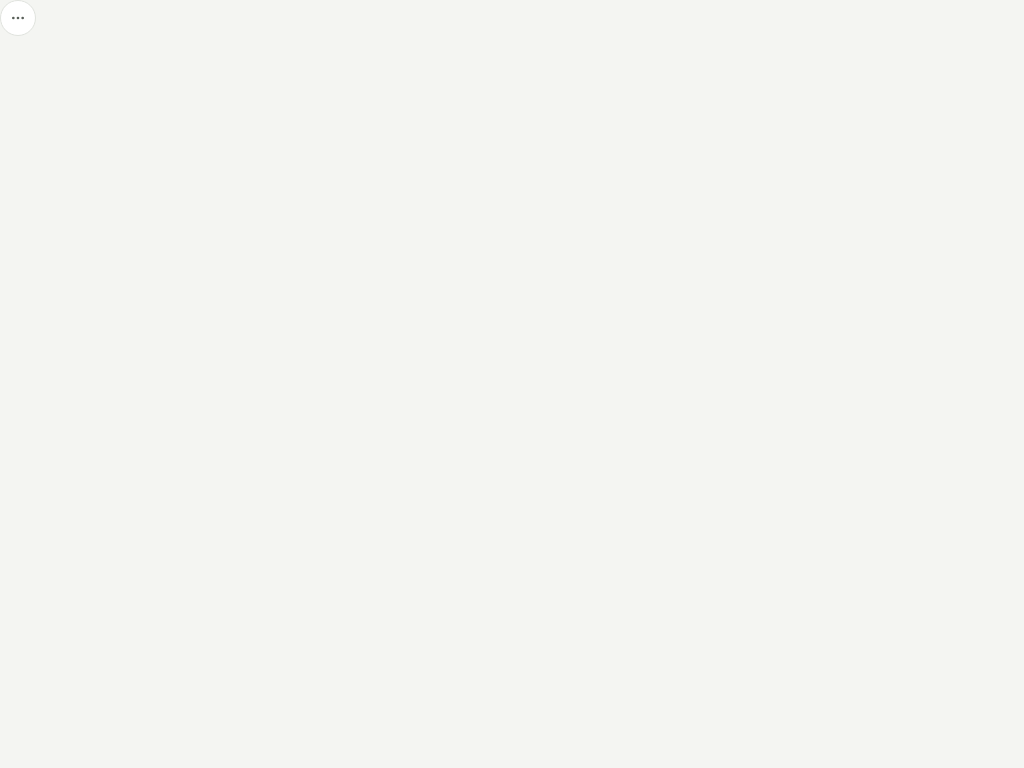
Test: duplicating an event › opens the upgrade dialog instead at the month's event limit, and copies nothing
The width and height of the screenshot is (1024, 768).
Press Enter in the button named "More for Hack Night 04", box [0,0,36,36]
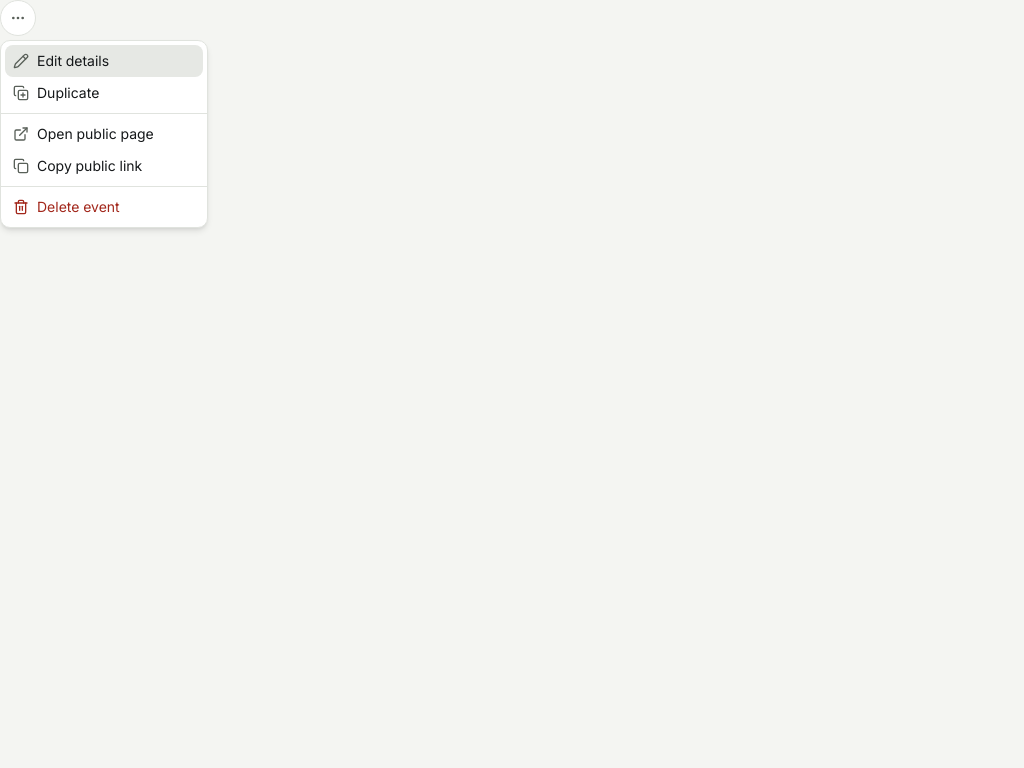
Click the menu item "Duplicate" at {"x": 56, "y": 92}, box [13,84,99,101]
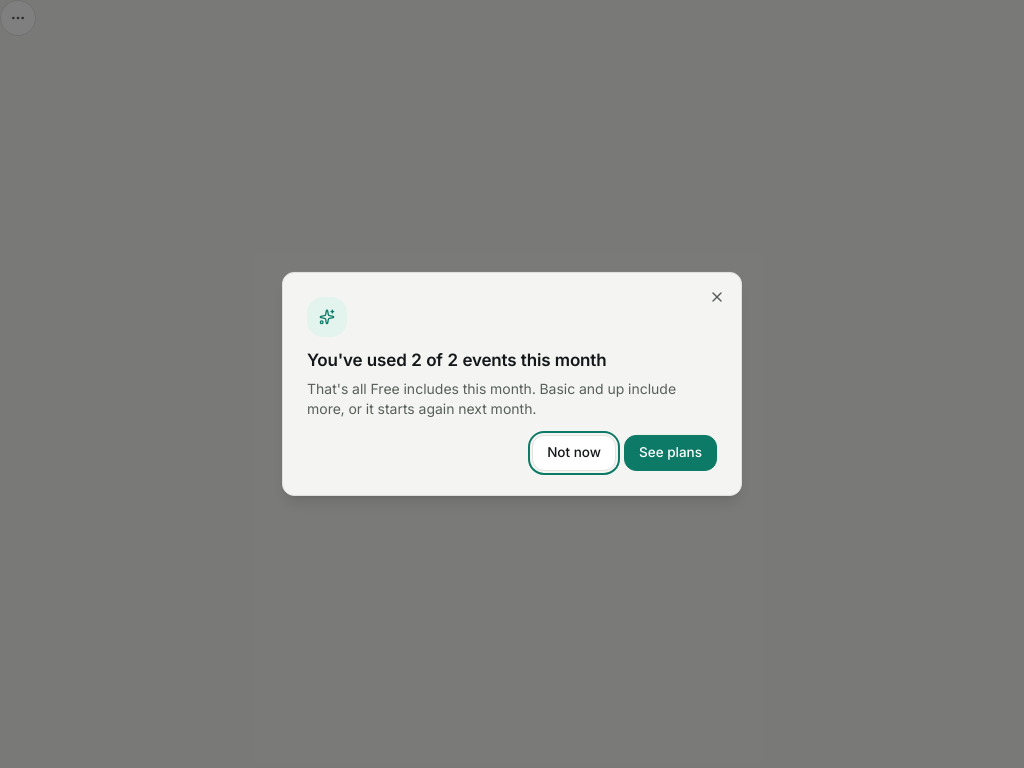
Result: the heading "You've used 2 of 2 events this month" is shown at [307,350,606,370]
